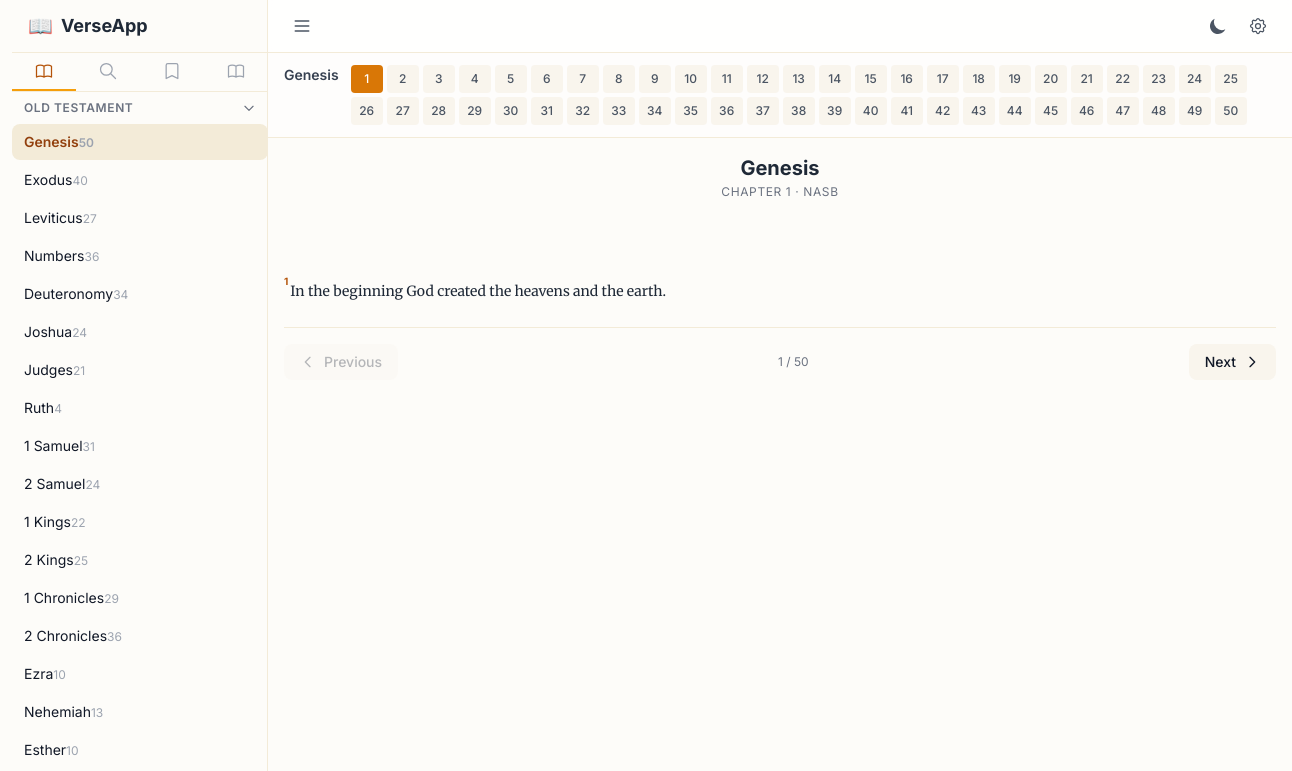
AppLayout › can switch to Bookmarks tab
Click the button named "Bookmarks". click: (172, 72)
box: [140,53,204,91]
(page scrolled)
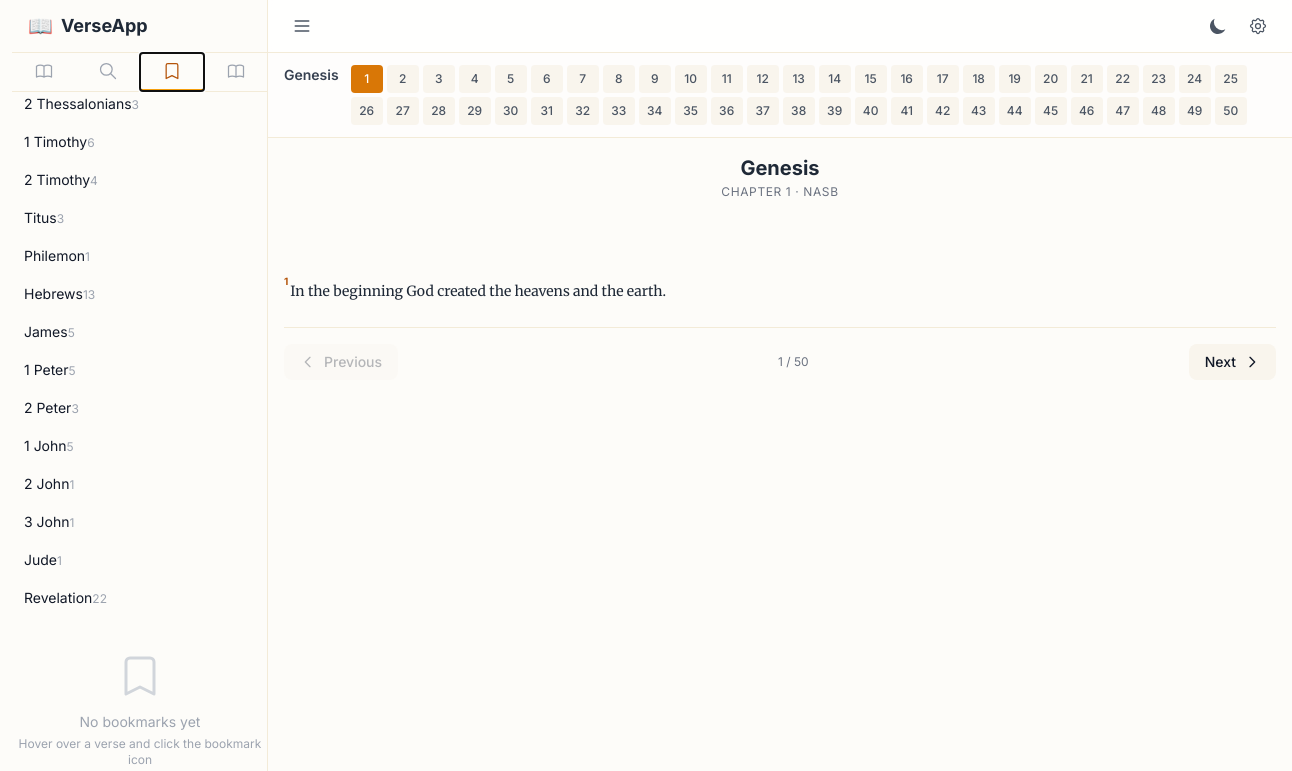
Now the text "No bookmarks yet" is shown, box [80,713,200,730]
